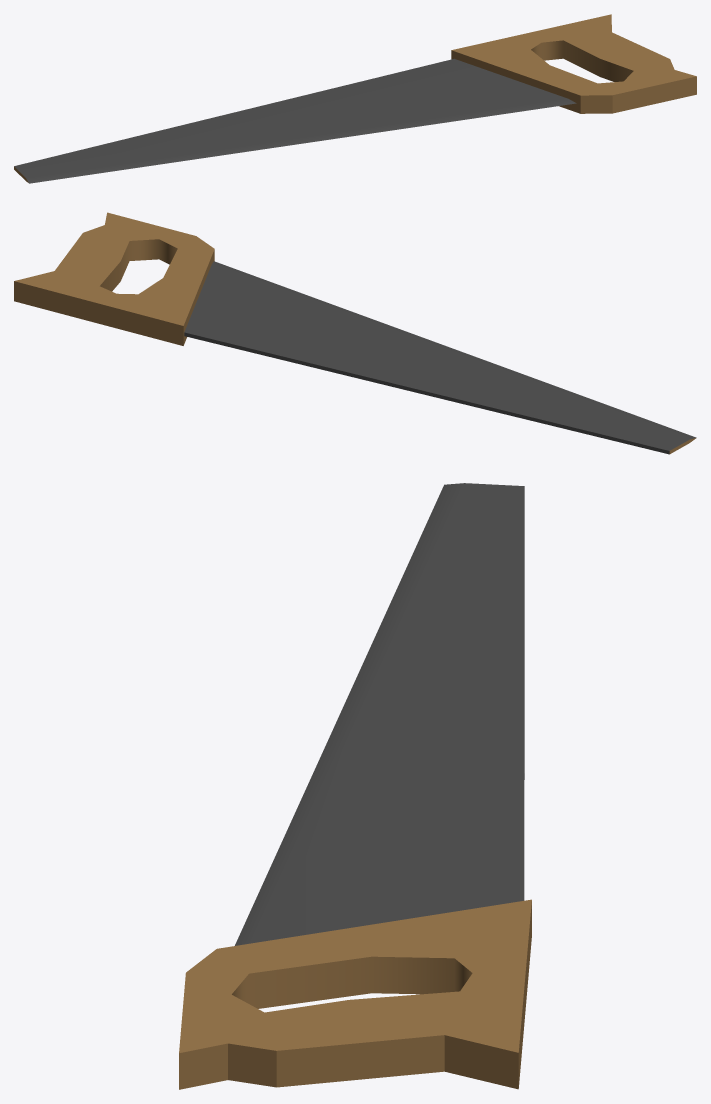
Rendered from serra.fbx.
The picture shows the model from 3 angles, top to bottom: view 1: azimuth 30°, elevation 25°; view 2: azimuth 150°, elevation 25°; view 3: azimuth 270°, elevation 25°; orthographic projection. The views are drawn at different scales.
Parts seen in each view (by area): view 1: serra; view 2: serra; view 3: serra.
Part boxes in pixels (left/top/right/bottom): serra: left=14, top=14, right=696, bottom=183; serra: left=14, top=212, right=696, bottom=454; serra: left=179, top=483, right=531, bottom=1089.
Size of the model in its own units: 768 by 22.32 by 195.
